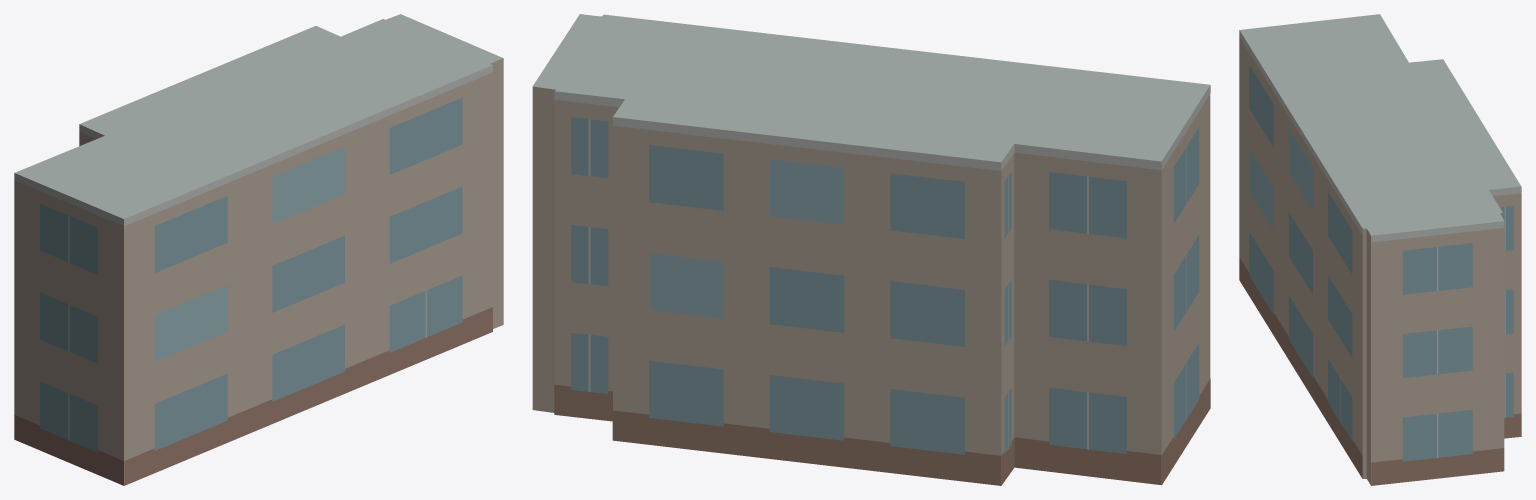
Rendered from survey-upis-32651751.glb.
3 views of the same model, side by side, from view 1: azimuth 30°, elevation 25°; view 2: azimuth 150°, elevation 25°; view 3: azimuth 270°, elevation 25° (orthographic). The views are drawn at different scales.
Parts seen in each view (by area): view 1: survey-upis-32651751.tmp; view 2: survey-upis-32651751.tmp; view 3: survey-upis-32651751.tmp.
Boxes of the visible parts, left/top/right/bottom form: survey-upis-32651751.tmp: left=14, top=14, right=503, bottom=485; survey-upis-32651751.tmp: left=532, top=14, right=1210, bottom=485; survey-upis-32651751.tmp: left=1239, top=14, right=1521, bottom=485.
Size of the model in its own units: 17.31 by 9.1 by 9.31.
